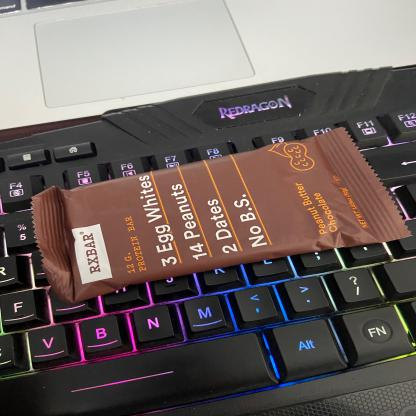ProteinBars: (38, 138, 388, 305)
